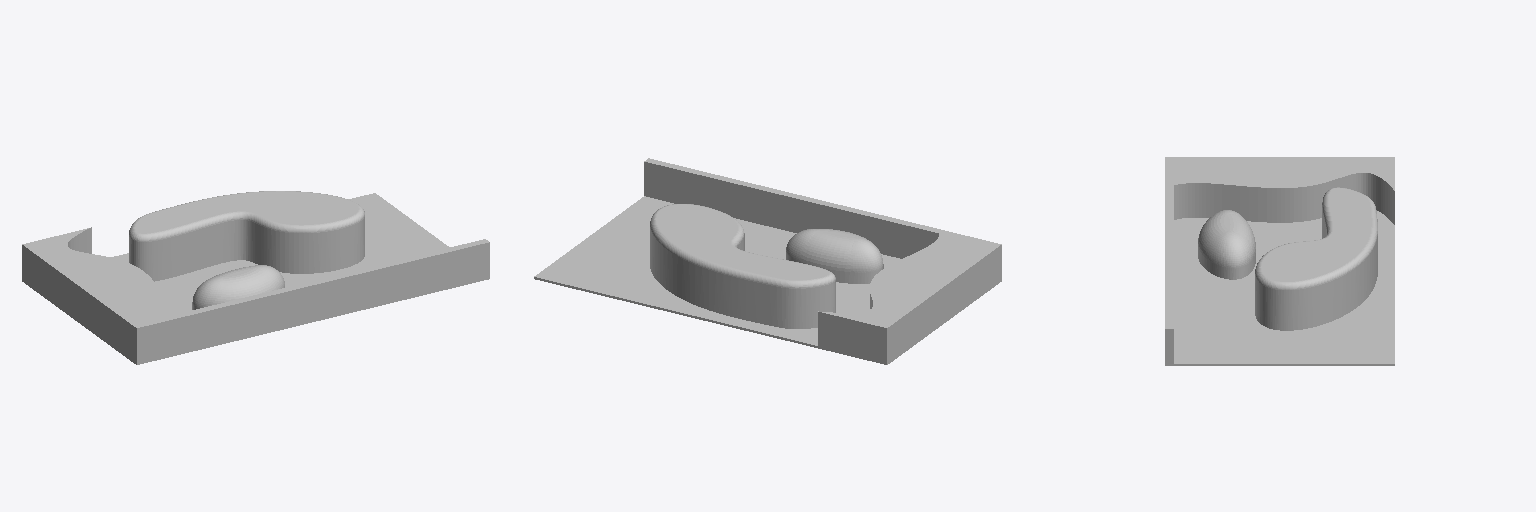
The model's file is Map_Proto.obj.
3 renders of one model, left to right at view 1: azimuth 30°, elevation 25°; view 2: azimuth 150°, elevation 25°; view 3: azimuth 270°, elevation 25°, orthographic.
Visible parts, largest first — view 1: MeshBody1; view 2: MeshBody1; view 3: MeshBody1.
Part boxes in pixels (x1,y1,x2,y2): MeshBody1: (22, 191, 489, 364); MeshBody1: (534, 158, 1001, 364); MeshBody1: (1165, 157, 1394, 365).
Size of the model in its own units: 320 by 42 by 180.